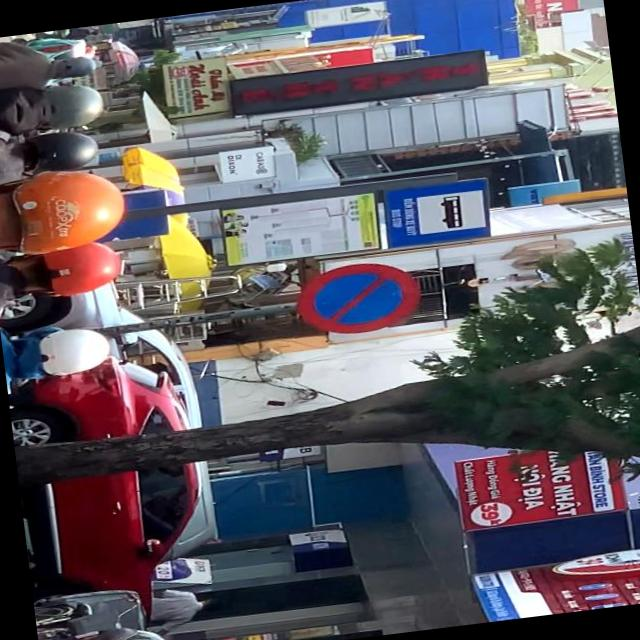P-131a: (293, 258, 422, 338)
